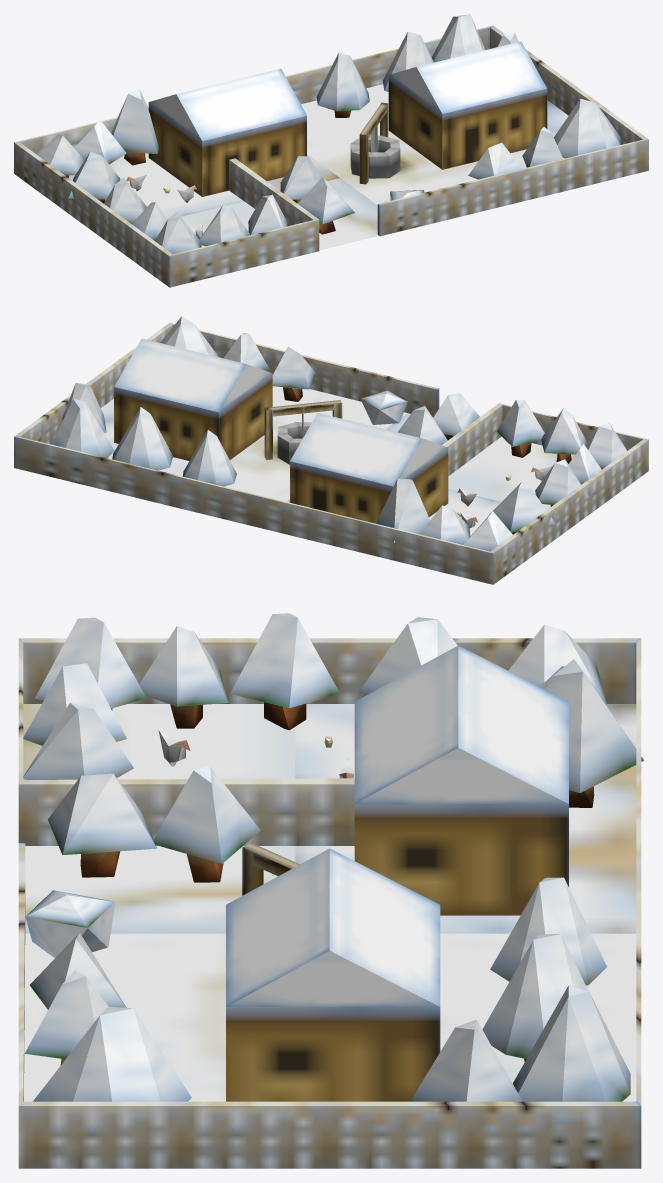
File: Poly_World_Map_Town_House_07_Snow.obj
3 views of the same model, one above another, from view 1: azimuth 30°, elevation 25°; view 2: azimuth 150°, elevation 25°; view 3: azimuth 270°, elevation 25° (orthographic). The views are drawn at different scales.
Visible parts, largest first — view 1: Grid_Grid.001, Cube.001_Cube.001_Cube.001_Cube.003, Cube.002_Cube.002_Cube.002_Cube.008, Cube.002_Cube.003_Cube.002_Cube.007, Plane_Plane.002, Cube.003_Cube.004_Cube.003_Cube.002, Cube.004_Cube.005_Cube.004_Cube.002, chickens_Cube.002; view 2: Grid_Grid.001, Cube.001_Cube.001_Cube.001_Cube.003, Cube.002_Cube.002_Cube.002_Cube.008, Cube.002_Cube.003_Cube.002_Cube.007, Plane_Plane.002, Cube.004_Cube.005_Cube.004_Cube.002, Cube.003_Cube.004_Cube.003_Cube.002, chickens_Cube.002; view 3: Cube.001_Cube.001_Cube.001_Cube.003, Grid_Grid.001, Plane_Plane.002, Cube.002_Cube.003_Cube.002_Cube.007, Cube.002_Cube.002_Cube.002_Cube.008, Cube.004_Cube.005_Cube.004_Cube.002, chickens_Cube.002.
Part boxes in pixels (<box>): Grid_Grid.001: <box>14,25,648,287</box>; Cube.001_Cube.001_Cube.001_Cube.003: <box>36,14,621,254</box>; Cube.002_Cube.002_Cube.002_Cube.008: <box>388,41,547,169</box>; Cube.002_Cube.003_Cube.002_Cube.007: <box>148,68,306,196</box>; Plane_Plane.002: <box>68,84,568,250</box>; Cube.003_Cube.004_Cube.003_Cube.002: <box>350,135,400,178</box>; Cube.004_Cube.005_Cube.004_Cube.002: <box>359,102,388,184</box>; chickens_Cube.002: <box>126,174,203,239</box>; Grid_Grid.001: <box>14,322,648,584</box>; Cube.001_Cube.001_Cube.001_Cube.003: <box>52,316,627,551</box>; Cube.002_Cube.002_Cube.002_Cube.008: <box>114,338,272,460</box>; Cube.002_Cube.003_Cube.002_Cube.007: <box>290,413,448,523</box>; Plane_Plane.002: <box>51,386,575,535</box>; Cube.004_Cube.005_Cube.004_Cube.002: <box>264,400,342,460</box>; Cube.003_Cube.004_Cube.003_Cube.002: <box>277,422,311,464</box>; chickens_Cube.002: <box>457,466,552,528</box>; Cube.001_Cube.001_Cube.001_Cube.003: <box>23,613,643,1101</box>; Grid_Grid.001: <box>18,638,641,1168</box>; Plane_Plane.002: <box>23,704,636,1101</box>; Cube.002_Cube.003_Cube.002_Cube.007: <box>354,645,568,915</box>; Cube.002_Cube.002_Cube.002_Cube.008: <box>226,848,440,1101</box>; Cube.004_Cube.005_Cube.004_Cube.002: <box>242,843,299,895</box>; chickens_Cube.002: <box>158,730,353,778</box>.
Size of the model in its own units: 1.62 by 0.2708 by 0.9046.
Materials: 1 (1 with a texture image).
